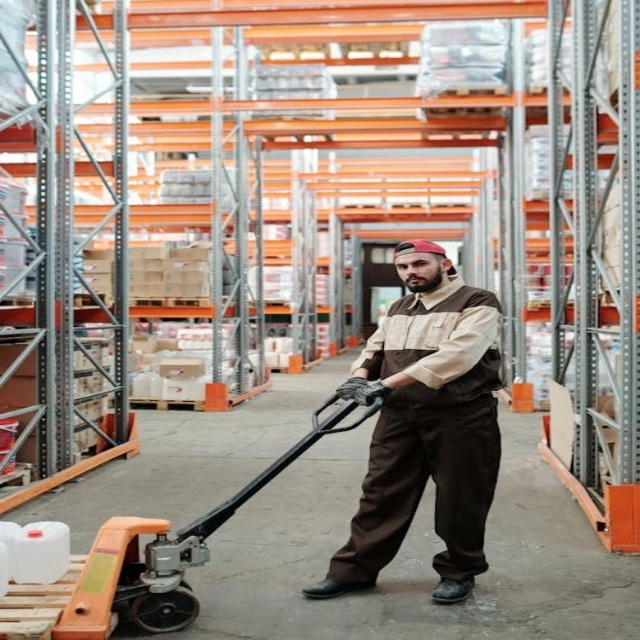Guantes: (334, 377, 370, 402)
Sin_gafas: (394, 256, 430, 271)
Sin_mascara: (402, 276, 425, 289)
